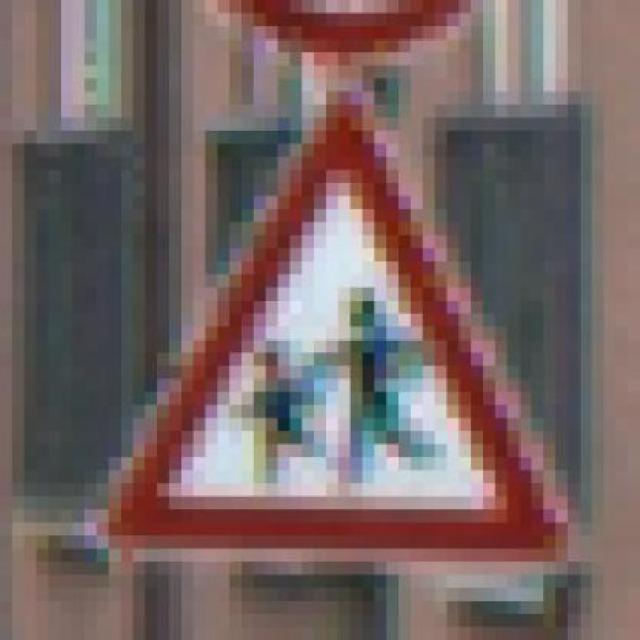Beware of children: (85, 66, 580, 574)
